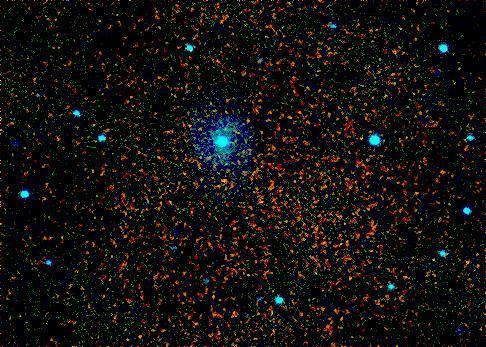star: (208, 164, 238, 194)
